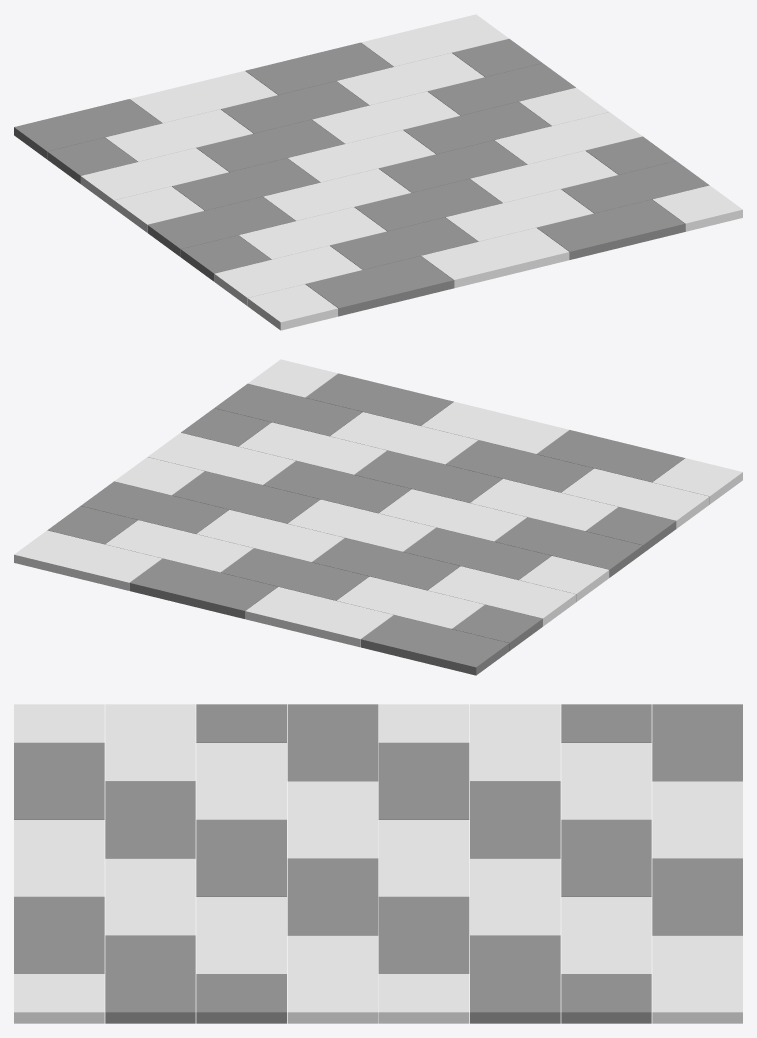
The model's file is Floor_Tile_3b.fbx.
The picture shows the model from 3 angles, top to bottom: view 1: azimuth 30°, elevation 25°; view 2: azimuth 150°, elevation 25°; view 3: azimuth 270°, elevation 25°; orthographic projection. The views are drawn at different scales.
Parts seen in each view (by area): view 1: Floor_Tile_3b; view 2: Floor_Tile_3b; view 3: Floor_Tile_3b.
Boxes of the visible parts, box(x1,y1,x2,y2) form: Floor_Tile_3b: box(14, 14, 742, 330); Floor_Tile_3b: box(14, 359, 742, 675); Floor_Tile_3b: box(14, 704, 742, 1023).
Bounding box in the file's own units: 4.7 × 0.08 × 4.7.
